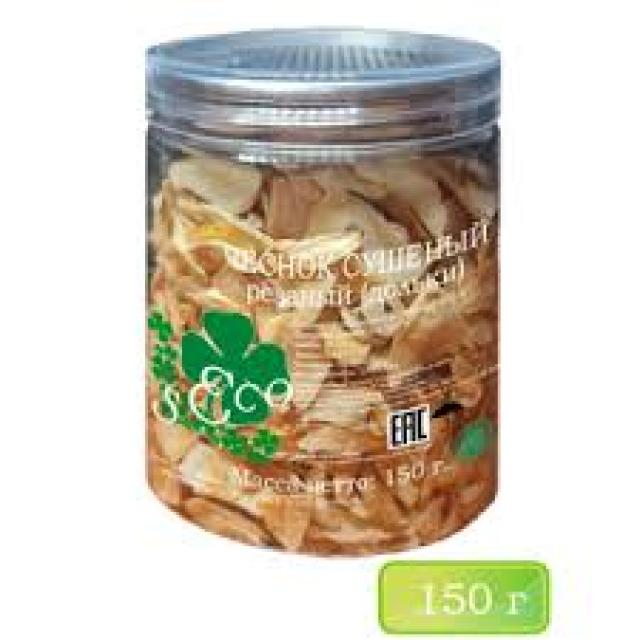Garlic: (171, 162, 495, 562)
